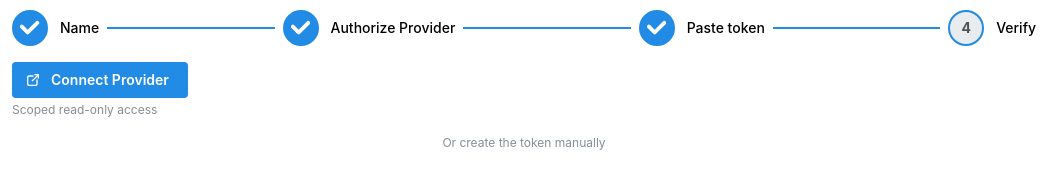
Test: tracks external authorization, safely reopens its URL and toggles manual instructions
This screenshot has width=1048, height=188.
Click the link "Connect Provider": [100, 80] box [12, 62, 188, 98]
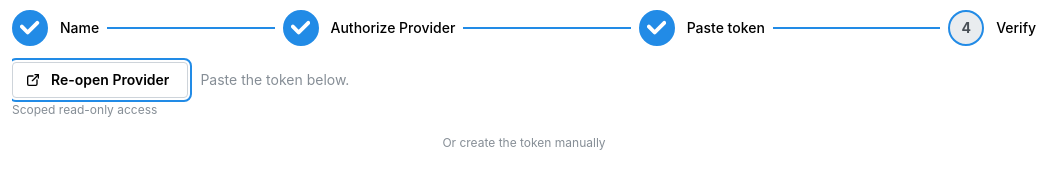
Check: the link "Re-open Provider" is shown, box [12, 62, 188, 98]
Check: the text "Paste the token below." is shown, box [200, 70, 349, 90]
Click the button "Or create the token manually": [524, 143] box [12, 135, 1036, 152]
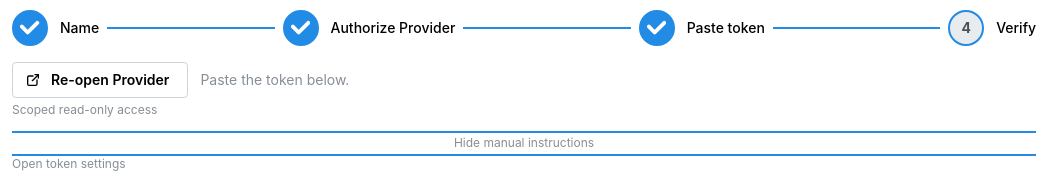
Check: the text "Open token settings" is shown, box [12, 156, 126, 171]
Click the button "Hide manual instructions": [524, 143] box [12, 135, 1036, 152]
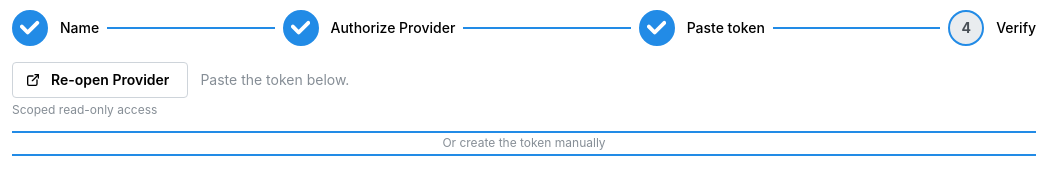
Check: the text "Open token settings" is gone
